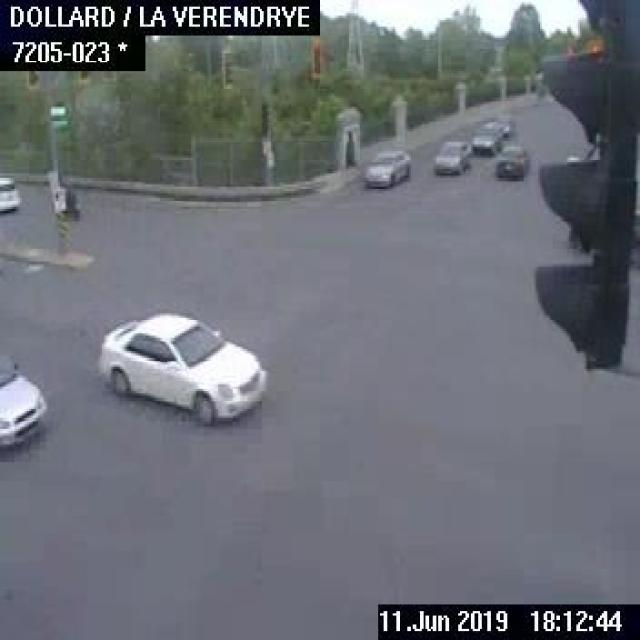vehicle: (96, 307, 264, 420), (0, 351, 44, 442), (360, 147, 411, 189), (469, 112, 514, 152), (433, 140, 469, 176), (495, 143, 529, 179), (0, 171, 20, 211)
